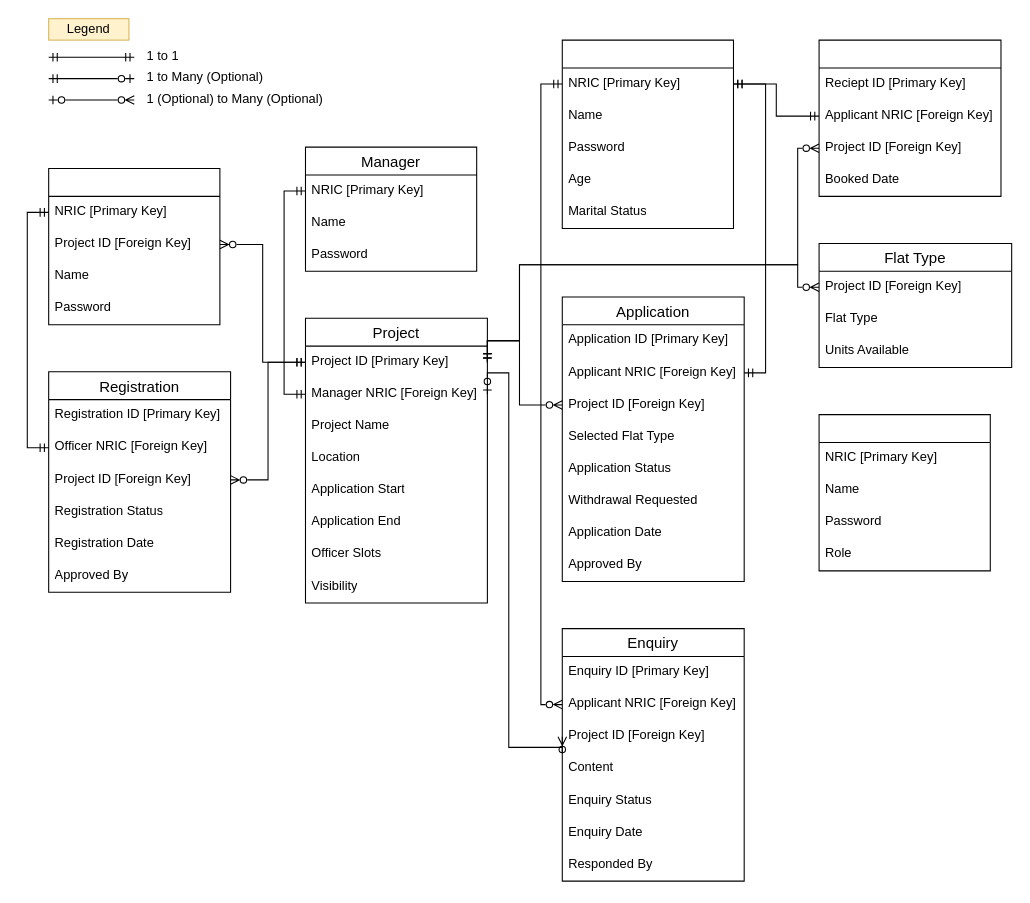
Some shapes in this 1030 by 903 pixel diagram are drawn without their labels. Here are the shapes that lost their labels. From the top down, the box of each, then its label:
(561, 39, 733, 228): Applicant
(818, 39, 1001, 196): Receipt
(48, 167, 220, 325): Officer
(818, 414, 990, 571): User
